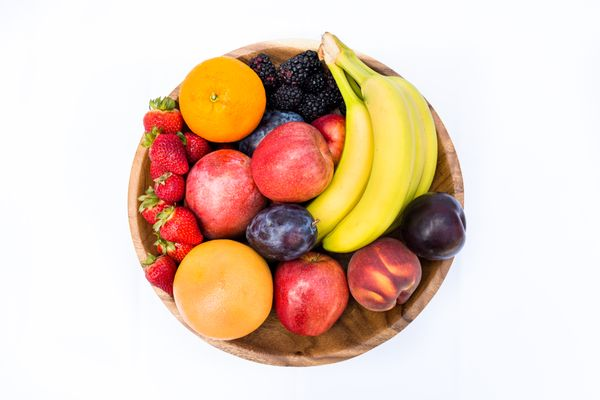pasta: (307, 31, 442, 254), (303, 45, 375, 240)
steak: (185, 147, 267, 239), (250, 121, 335, 203), (273, 251, 349, 336), (346, 236, 422, 312)
sushi: (126, 41, 463, 370)
taco: (172, 237, 274, 340), (178, 56, 267, 143)
